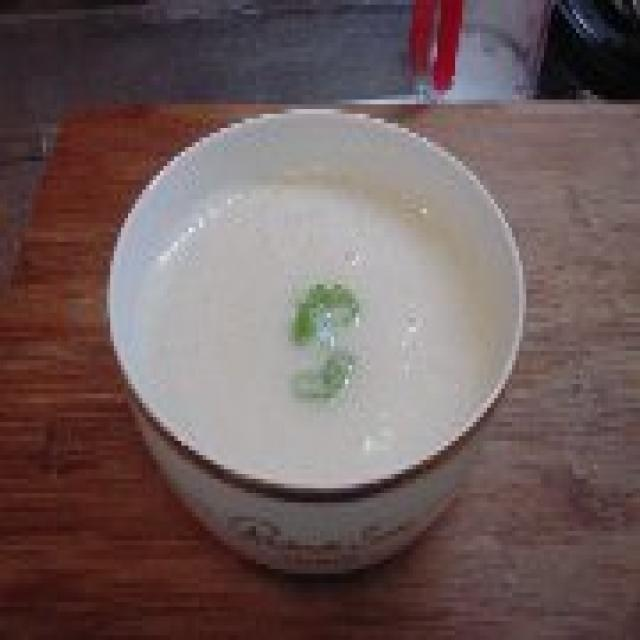汤锅炖物: (75, 94, 526, 574)
